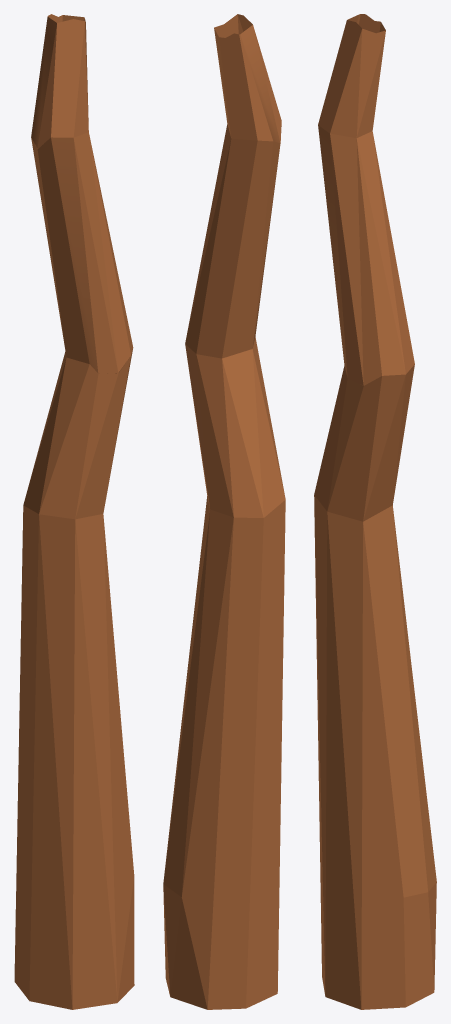
File: tree_nobranch.glb
The picture shows the model from 3 angles, left to right: view 1: azimuth 30°, elevation 25°; view 2: azimuth 150°, elevation 25°; view 3: azimuth 330°, elevation 25°; orthographic projection.
Parts seen in each view (by area): view 1: Cylinder; view 2: Cylinder; view 3: Cylinder.
Part boxes in pixels (x1,y1,x2,y2): Cylinder: (14, 14, 134, 1009); Cylinder: (163, 14, 285, 1009); Cylinder: (314, 14, 436, 1009).
Bounding box in the file's own units: 0.3855 × 3.54 × 0.386.
Materials: 1 (1 with a texture image).
